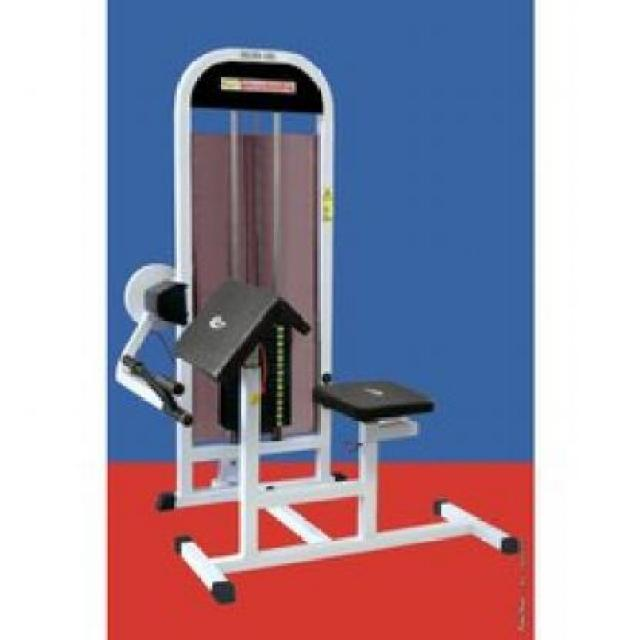arm curl machine: (116, 49, 522, 606)
